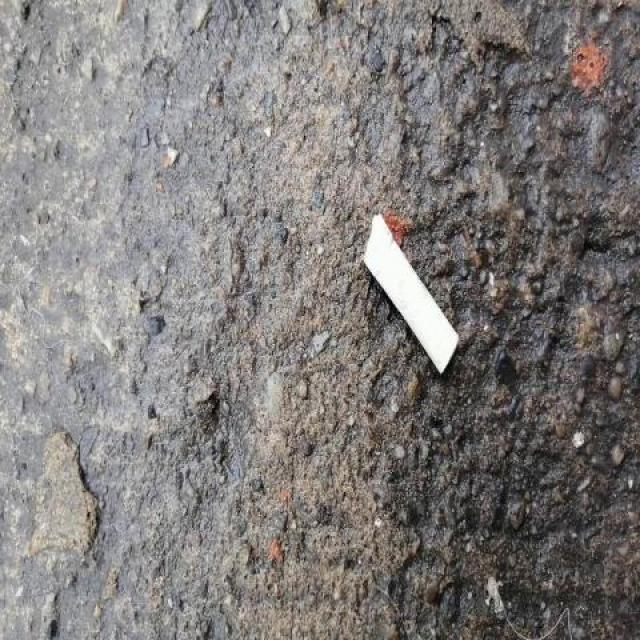non-organic waste: (353, 209, 464, 383)
